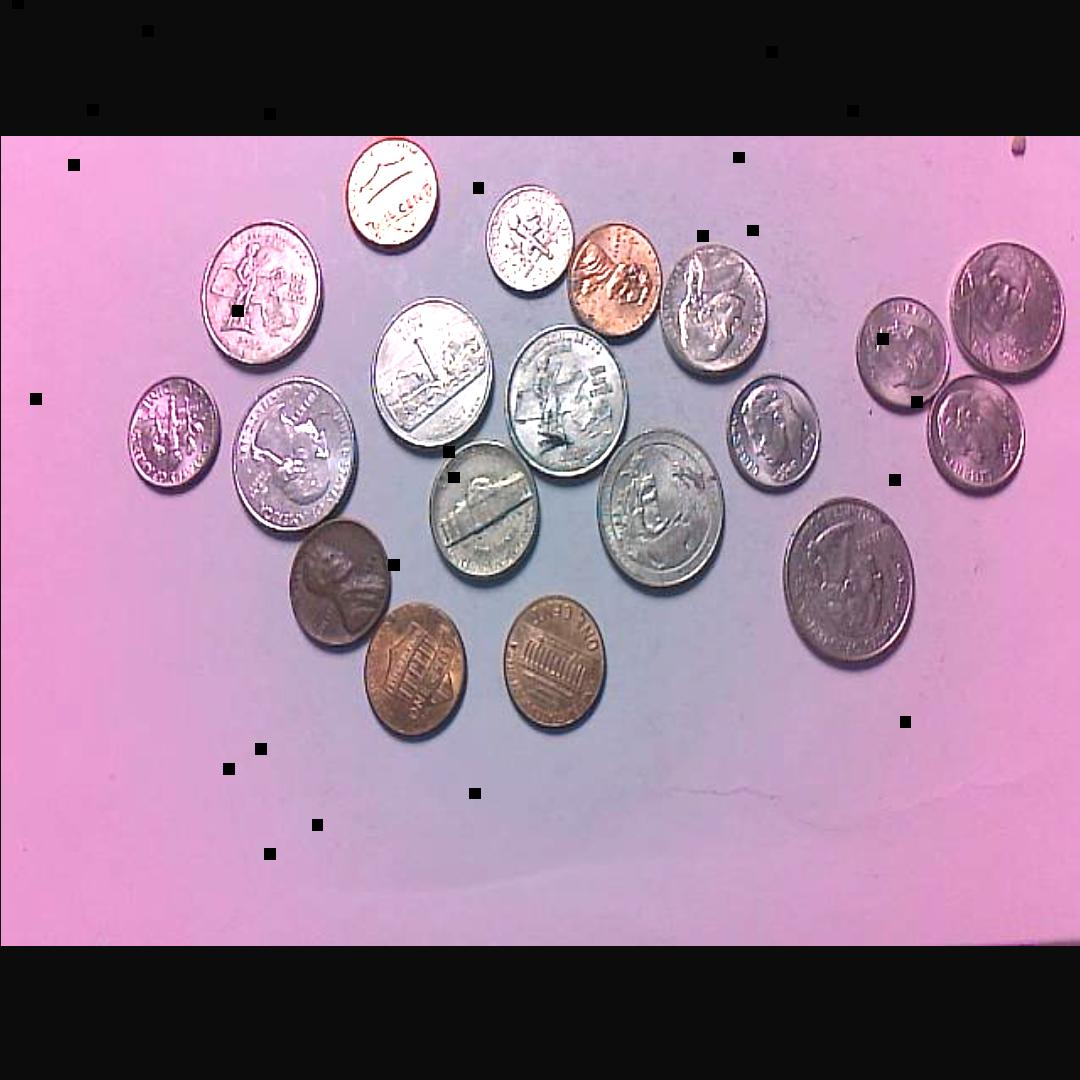Dime: (722, 368, 825, 496), (122, 371, 224, 496), (925, 378, 1028, 496), (854, 292, 952, 415), (483, 179, 575, 295)
Nickel: (945, 236, 1066, 385), (425, 437, 542, 587), (662, 238, 770, 380)
Penny: (498, 587, 611, 736), (359, 596, 469, 742), (287, 515, 392, 655), (341, 135, 444, 255), (567, 214, 663, 339)
Quarter: (780, 493, 920, 672), (596, 425, 727, 597), (230, 366, 358, 542), (371, 290, 500, 457), (194, 214, 326, 375), (505, 322, 631, 486)
